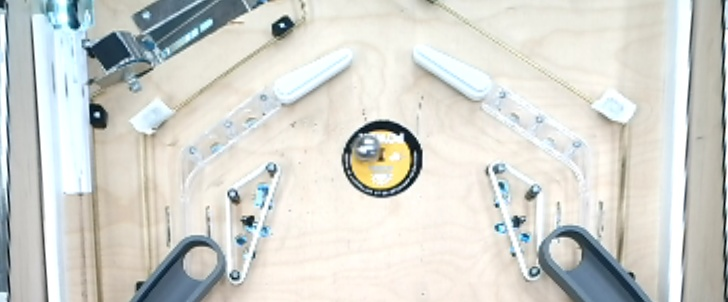ball: (351, 130, 383, 161)
flipper-left: (410, 40, 495, 106)
flipper-right: (270, 42, 355, 110)
